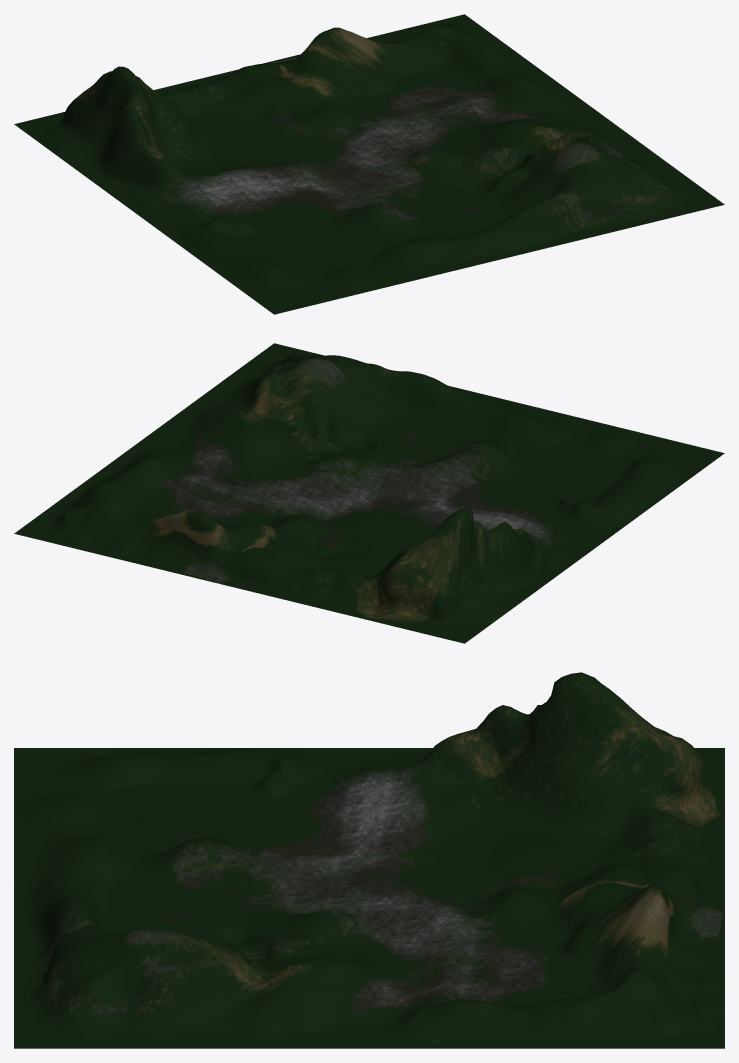
File: Ground_Map_7.fbx
The picture shows the model from 3 angles, top to bottom: view 1: azimuth 30°, elevation 25°; view 2: azimuth 150°, elevation 25°; view 3: azimuth 270°, elevation 25°; orthographic projection. The views are drawn at different scales.
Parts seen in each view (by area): view 1: Ground_Map_7; view 2: Ground_Map_7; view 3: Ground_Map_7.
Boxes of the visible parts, x1,y1,x2,y2 form: Ground_Map_7: [14, 14, 724, 314]; Ground_Map_7: [14, 343, 724, 643]; Ground_Map_7: [14, 672, 724, 1048].
Size of the model in its own units: 9000 by 1692 by 9000.
